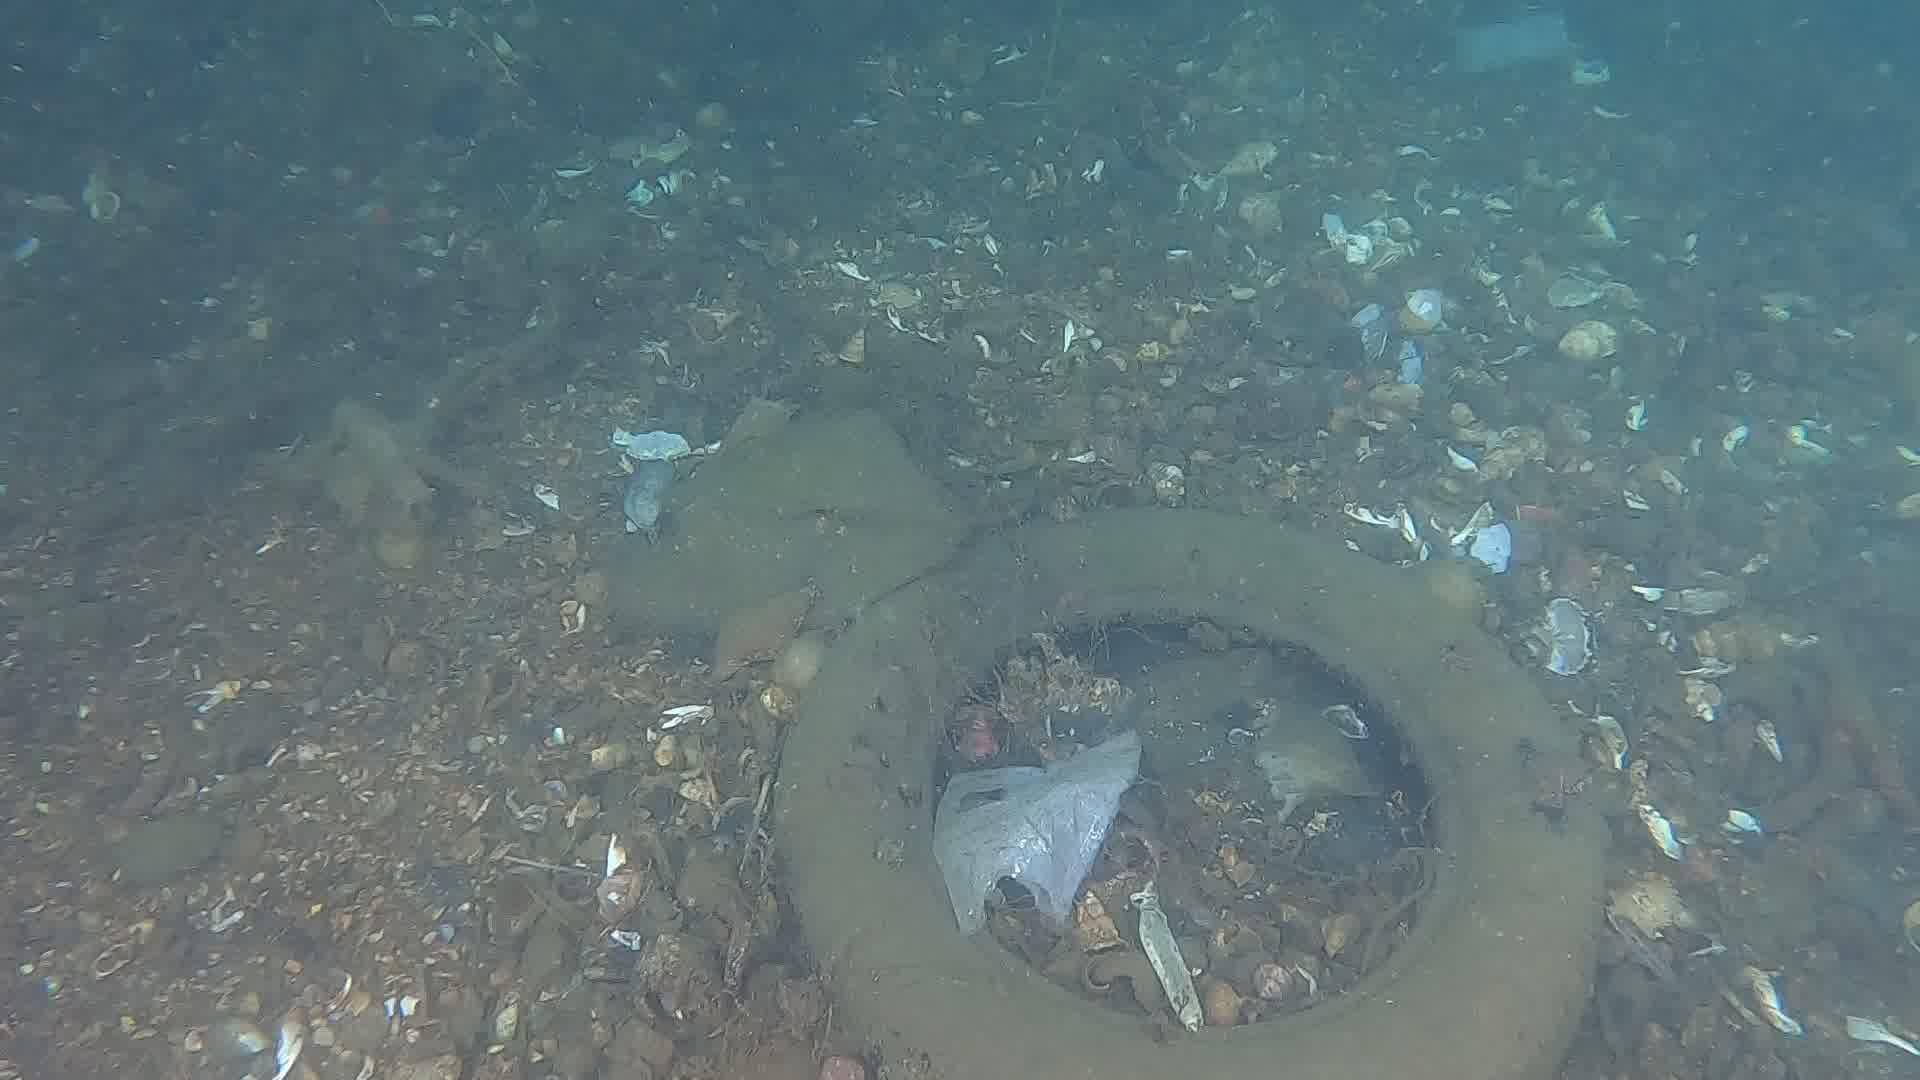tire: (778, 495, 1604, 1080)
